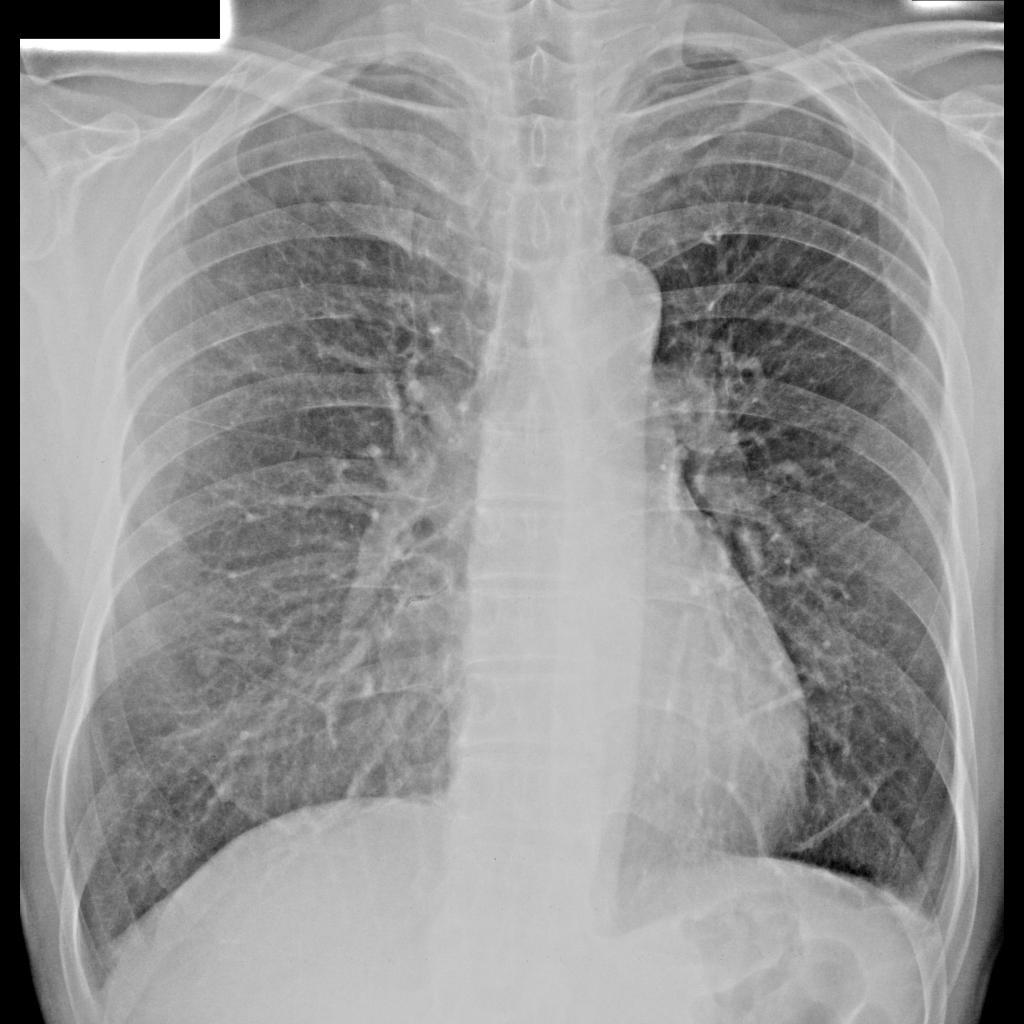Nodule: (192, 650, 218, 677)
